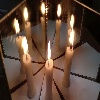fire: (47, 40, 52, 62)
